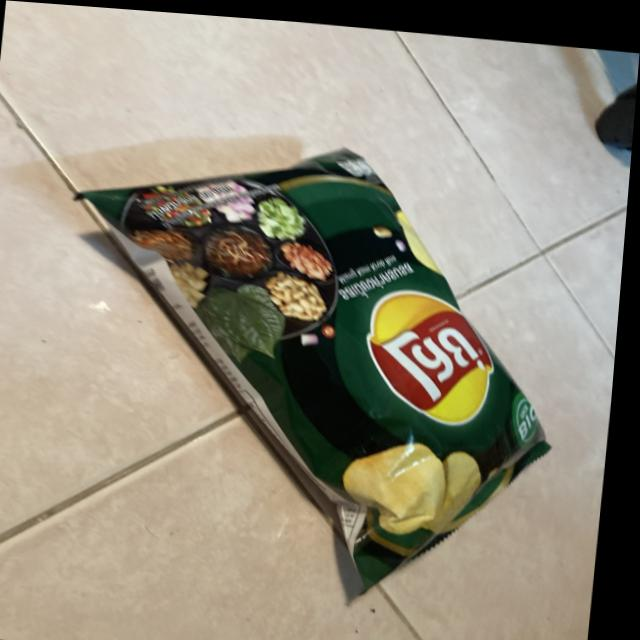Laygreen: (51, 121, 589, 590)
